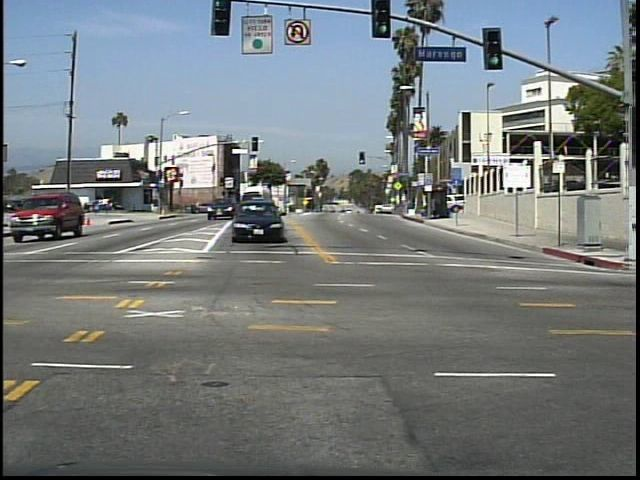person: (58, 192, 75, 220)
